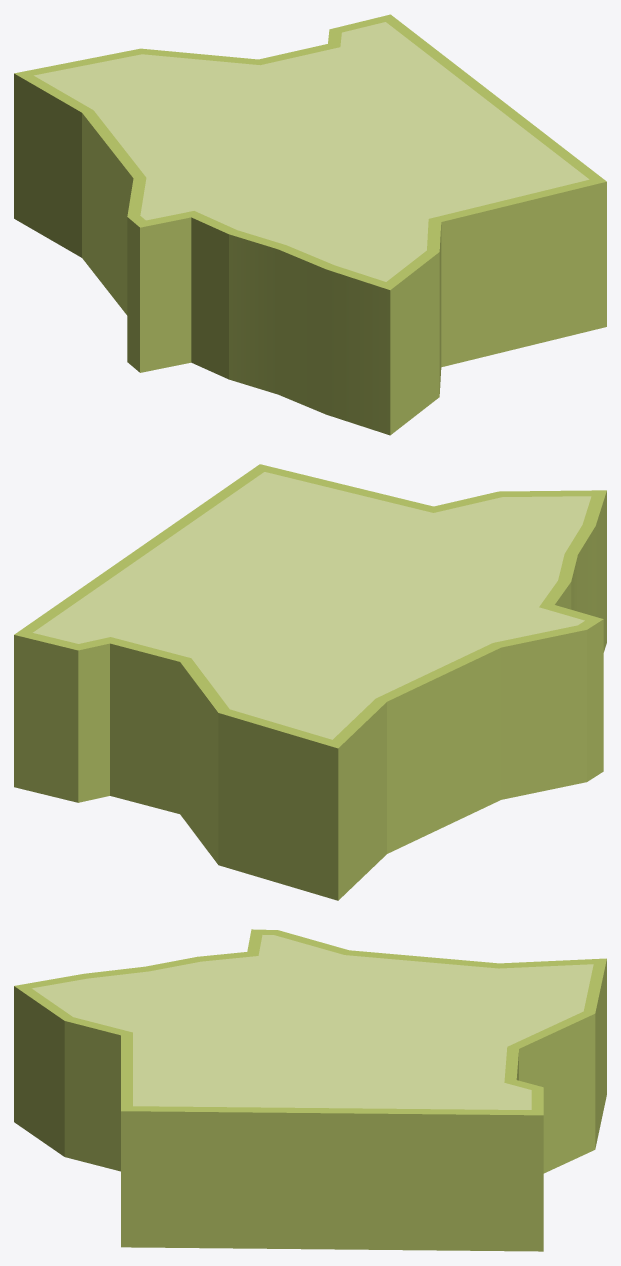
Rendered from Islands2.002.fbx.
3 views of the same model, one above another, from view 1: azimuth 30°, elevation 25°; view 2: azimuth 150°, elevation 25°; view 3: azimuth 270°, elevation 25° (orthographic). The views are drawn at different scales.
Visible parts, largest first — view 1: Island2.002; view 2: Island2.002; view 3: Island2.002.
Part boxes in pixels (x1,y1,x2,y2): Island2.002: (14,14,606,435); Island2.002: (14,464,606,900); Island2.002: (14,929,606,1251).
Bounding box in the file's own units: 73.19 × 25 × 98.65.
